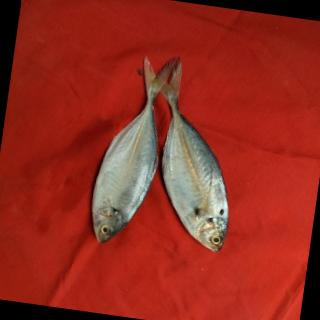Ikan: (81, 43, 258, 271)
